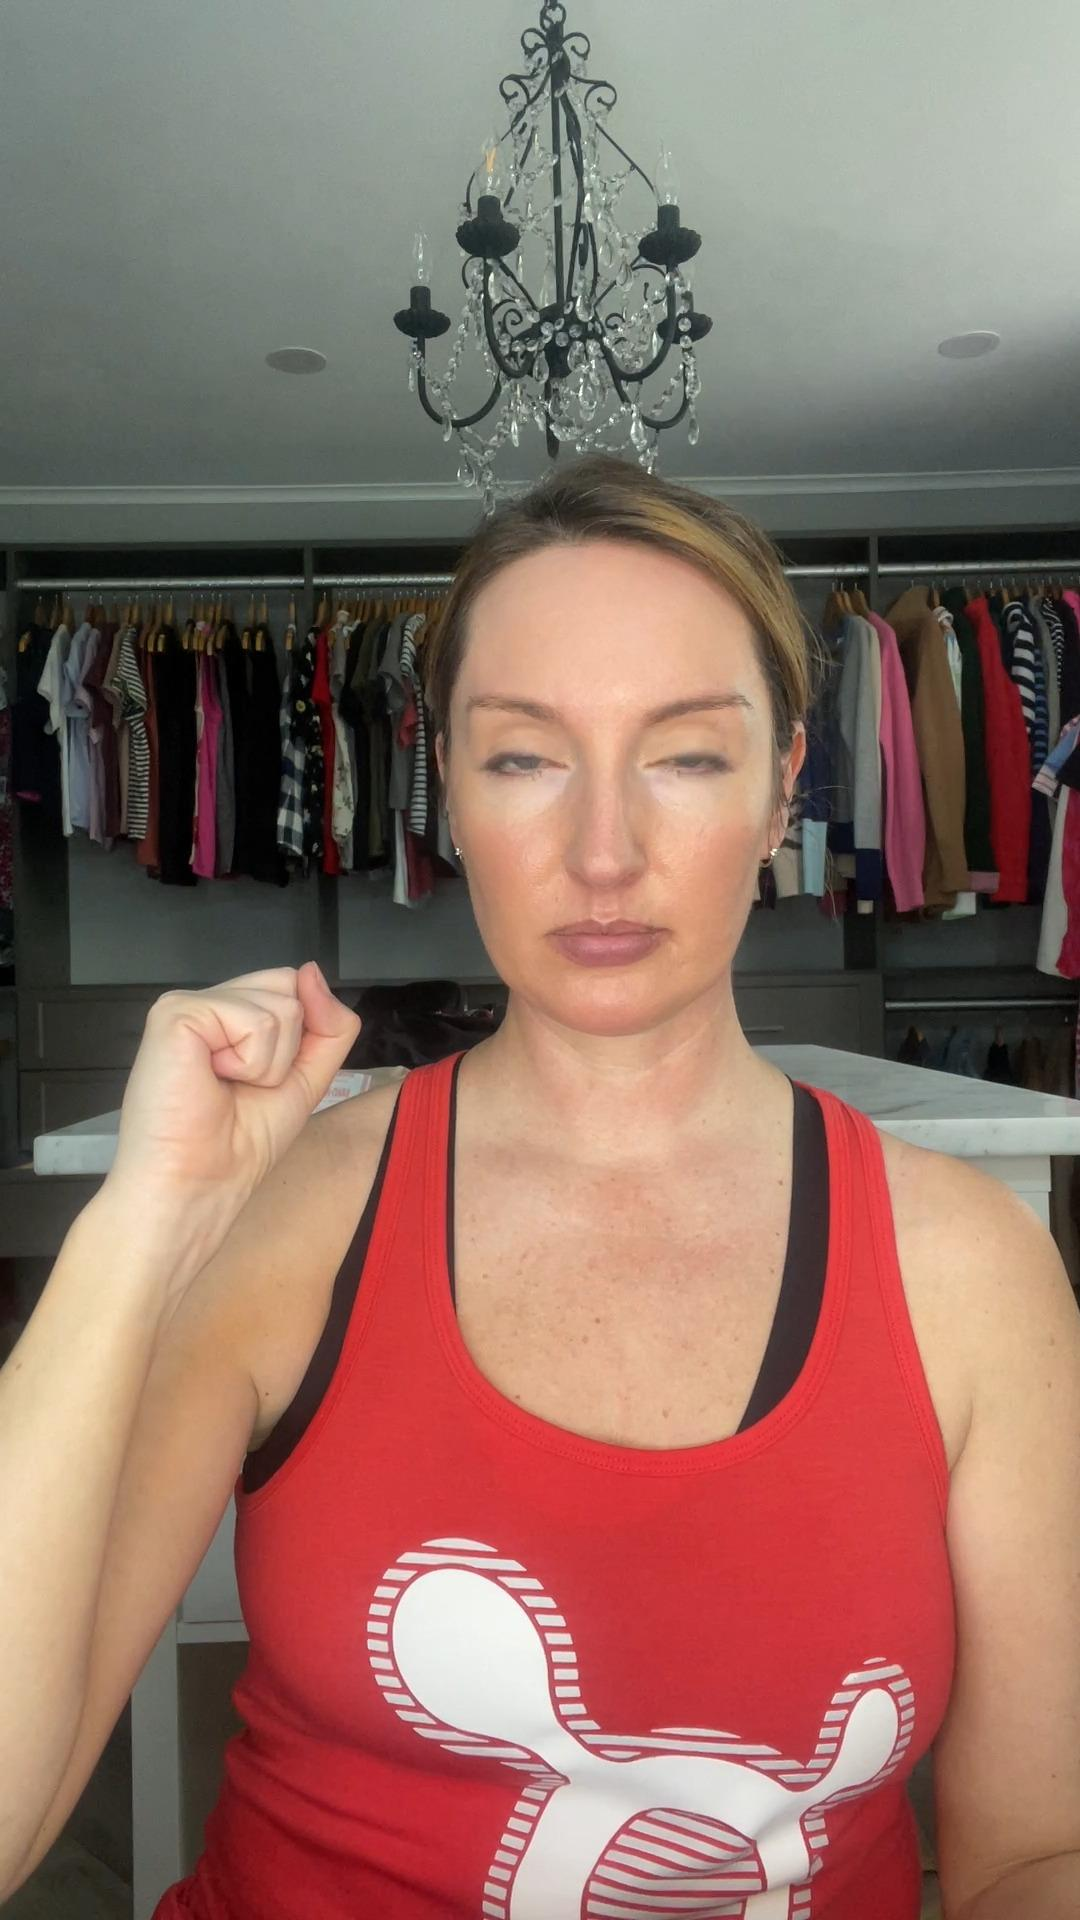Rock: (113, 964, 363, 1228)
